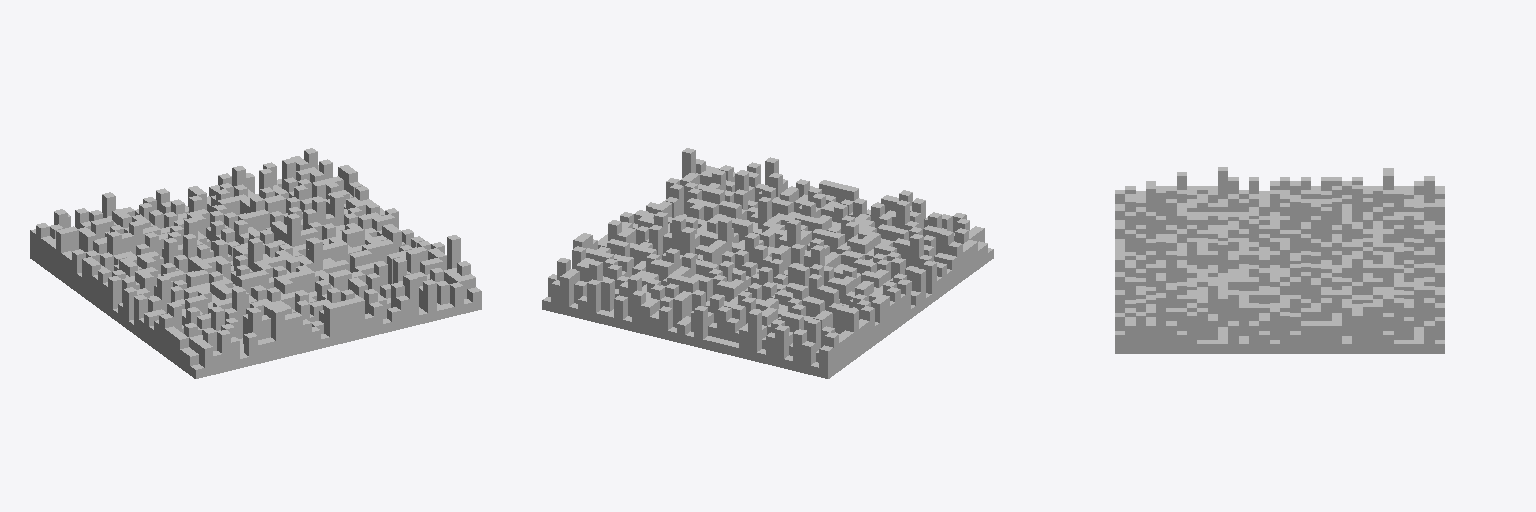
The model's file is grass 1.obj.
3 views of the same model, side by side, from view 1: azimuth 30°, elevation 25°; view 2: azimuth 150°, elevation 25°; view 3: azimuth 270°, elevation 25° (orthographic).
Parts seen in each view (by area): view 1: grass; view 2: grass; view 3: grass.
Boxes of the visible parts, x1,y1,x2,y2 form: grass: [30, 148, 481, 378]; grass: [542, 148, 993, 378]; grass: [1115, 167, 1444, 353].
Bounding box in the file's own units: 32 × 6 × 32.